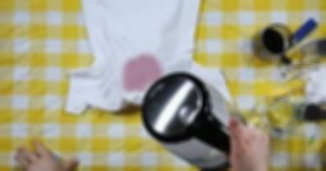wine: (119, 54, 160, 92)
